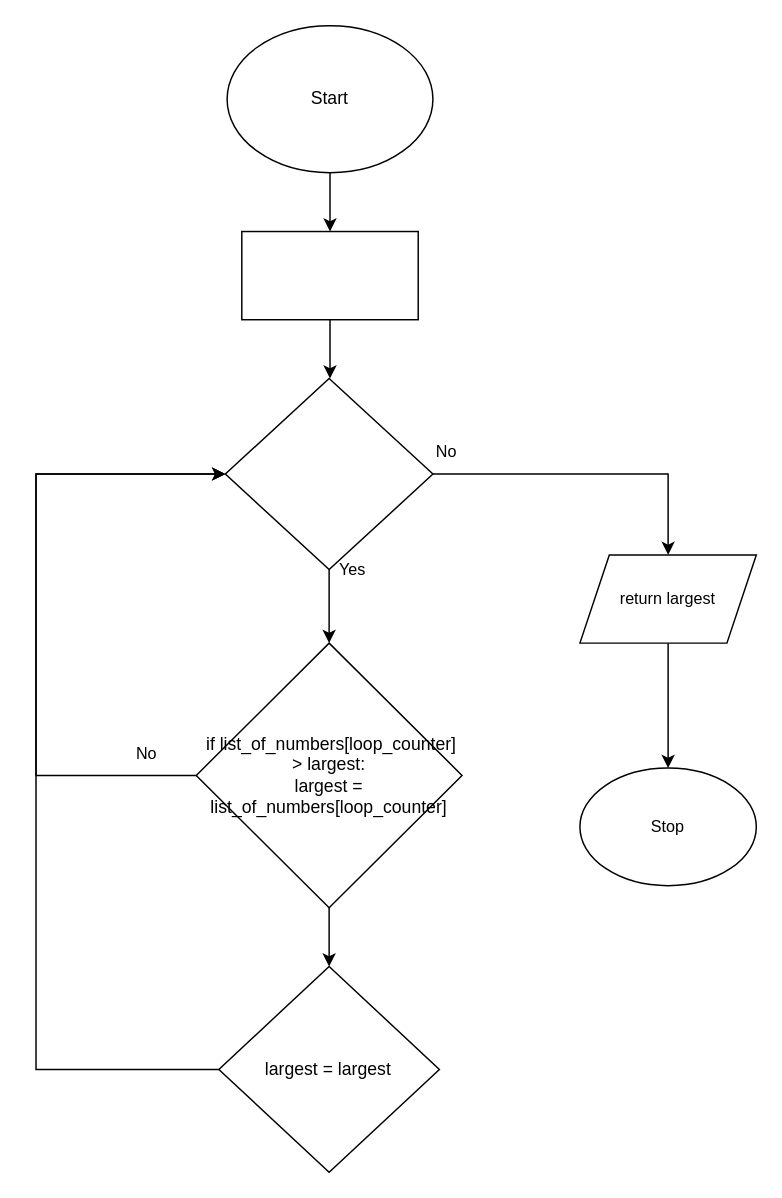
The diagram is 782 pixels wide and 1198 high, and some of its shapes have lost their labels. Here are the shapes that lost their labels. From the top down, the box of each, then its label:
(240, 230, 418, 320): largest = list_of_numbers[9]
(224, 377, 433, 570): for loop_counter in range(0, 9):
